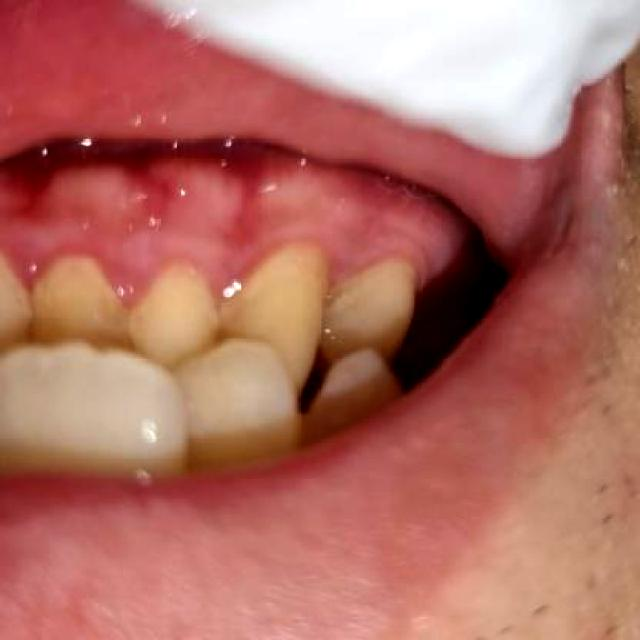Plaque: (2, 233, 368, 310)
